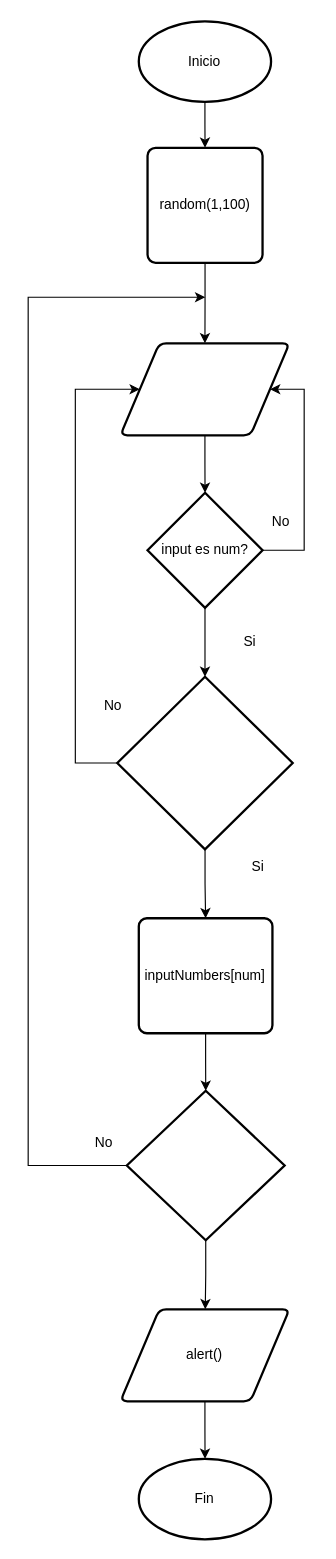
Image size: 336x1559. Some labels were removed from this diagram. The centre of each missing label's shape, as x and y in pixels:
num === randomNum: pixel 205 1165
num >= 1 && num <=100: pixel 204 762
solicita num: pixel 204 389
